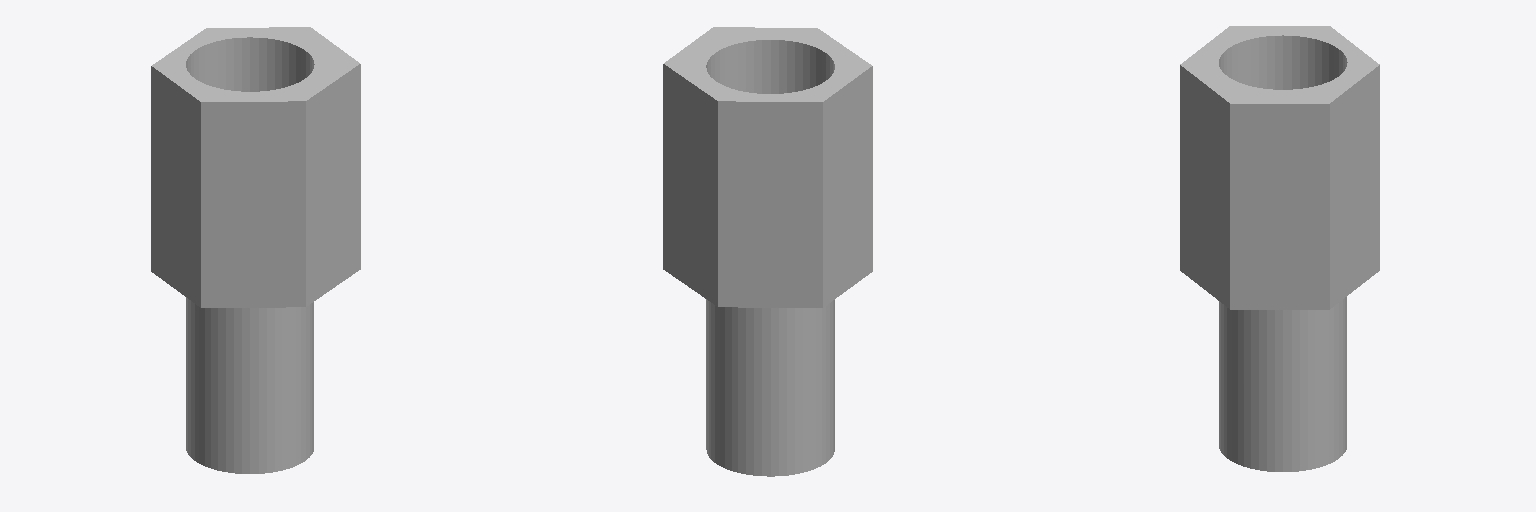
The model's file is Standoff.obj.
3 renders of one model, left to right at view 1: azimuth 30°, elevation 25°; view 2: azimuth 150°, elevation 25°; view 3: azimuth 270°, elevation 25°, orthographic.
Visible parts, largest first — view 1: obj_0; view 2: obj_0; view 3: obj_0.
Part boxes in pixels (x1,y1,x2,y2): obj_0: (151,27,360,473); obj_0: (663,27,872,476); obj_0: (1180,26,1379,471).
Size of the model in its own units: 0.0566 by 0.13 by 0.0615.